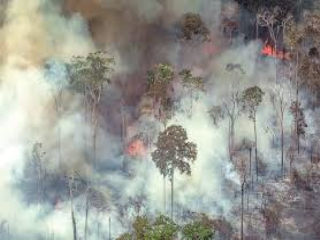fire: (264, 43, 290, 61), (127, 138, 151, 156)
smoke: (163, 103, 239, 217), (78, 159, 165, 202)
